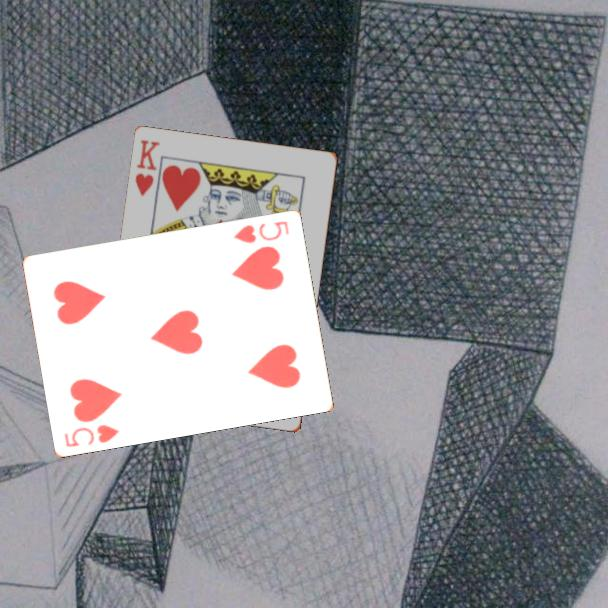h05: (230, 217, 292, 246), (61, 421, 122, 450)
h13: (132, 137, 163, 199)
